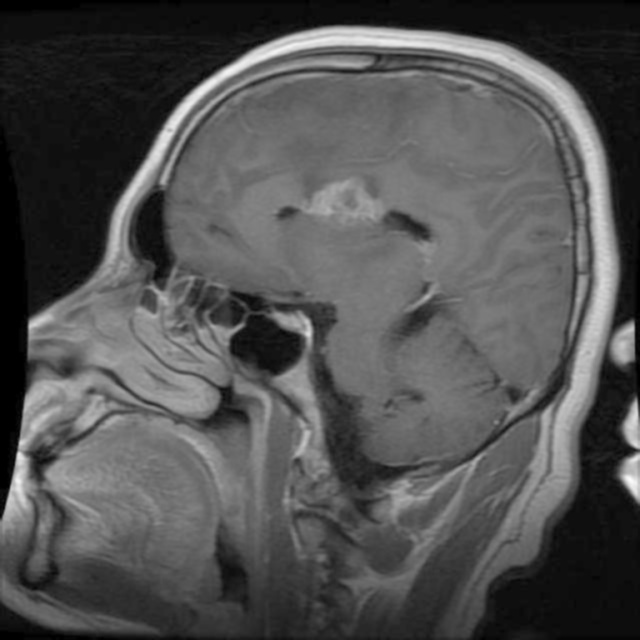pituitary tumor: (306, 178, 380, 222)
